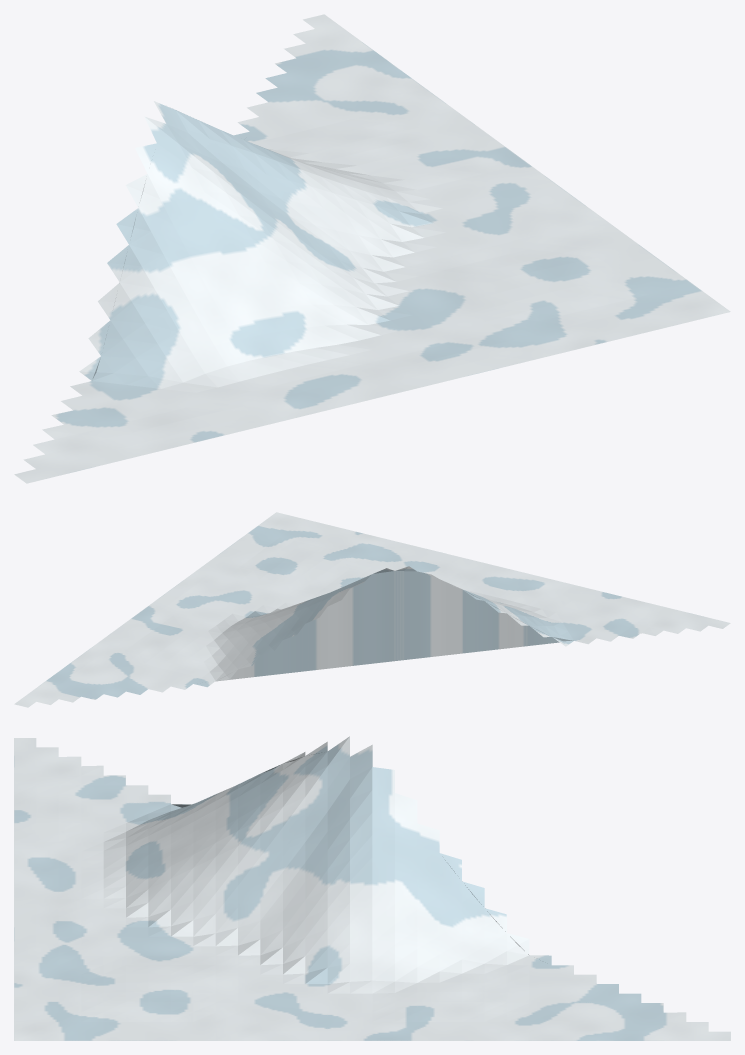
Rendered from Snow_Mountains_03_NE.obj.
3 renders of one model, top to bottom at view 1: azimuth 30°, elevation 25°; view 2: azimuth 150°, elevation 25°; view 3: azimuth 270°, elevation 25°, orthographic. The views are drawn at different scales.
Bounding box in the file's own units: 10 × 2.08 × 10.
1 material, 1 textured.
